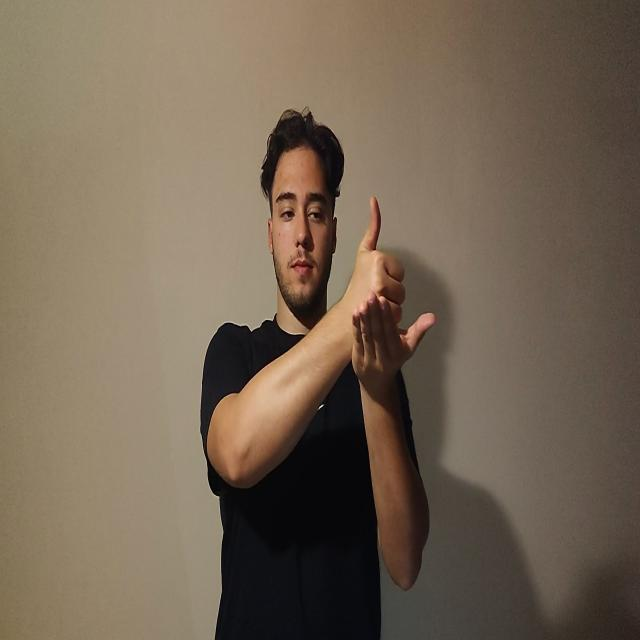help: (344, 194, 439, 378)
